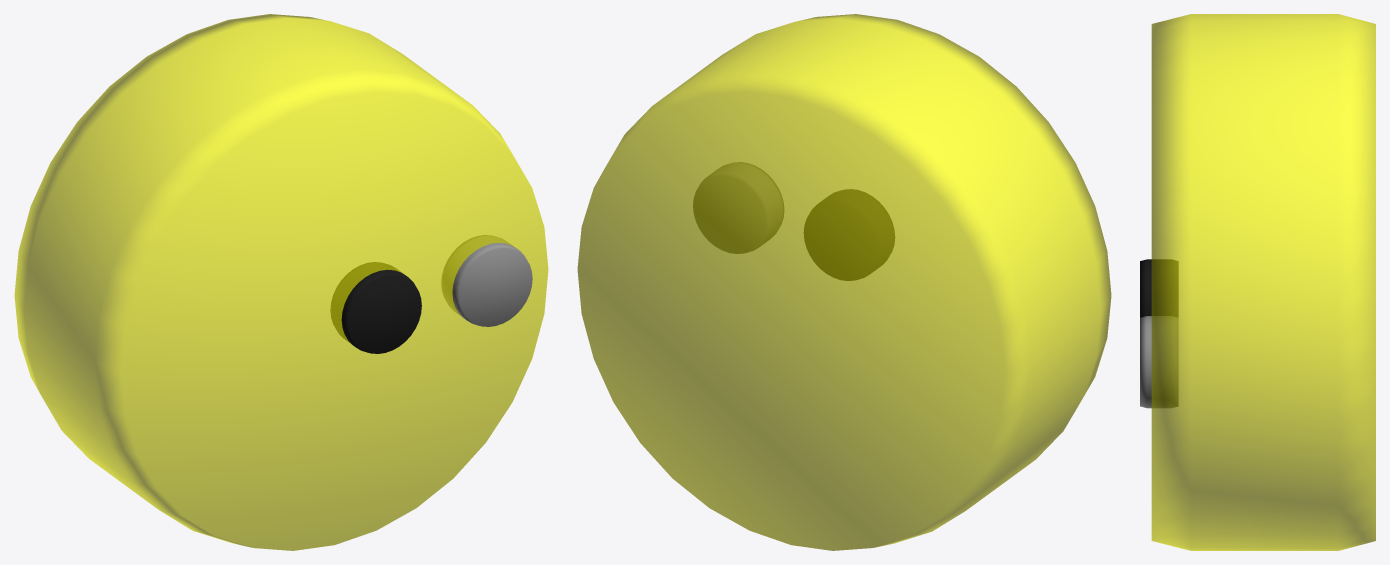
The model's file is hypoxic.glb.
3 views of the same model, side by side, from view 1: azimuth 30°, elevation 25°; view 2: azimuth 150°, elevation 25°; view 3: azimuth 270°, elevation 25° (orthographic). The views are drawn at different scales.
Visible parts, largest first — view 1: Cylinder, Cylinder.001, Cylinder.002; view 2: Cylinder, Cylinder.002, Cylinder.001; view 3: Cylinder, Cylinder.001, Cylinder.002.
Boxes of the visible parts, <box> form: Cylinder: <box>14,14,548,550</box>; Cylinder.001: <box>441,235,532,326</box>; Cylinder.002: <box>330,262,421,353</box>; Cylinder: <box>577,14,1111,550</box>; Cylinder.002: <box>804,189,894,280</box>; Cylinder.001: <box>693,162,783,253</box>; Cylinder: <box>1151,14,1375,550</box>; Cylinder.001: <box>1140,316,1178,408</box>; Cylinder.002: <box>1140,259,1178,317</box>.
Size of the model in its own units: 0.5507 by 0.5507 by 0.2415.
